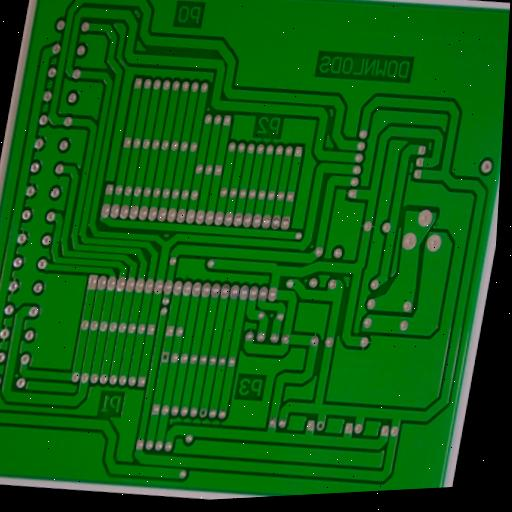missing_hole: (314, 419, 328, 436), (159, 350, 171, 367), (197, 405, 209, 421)
